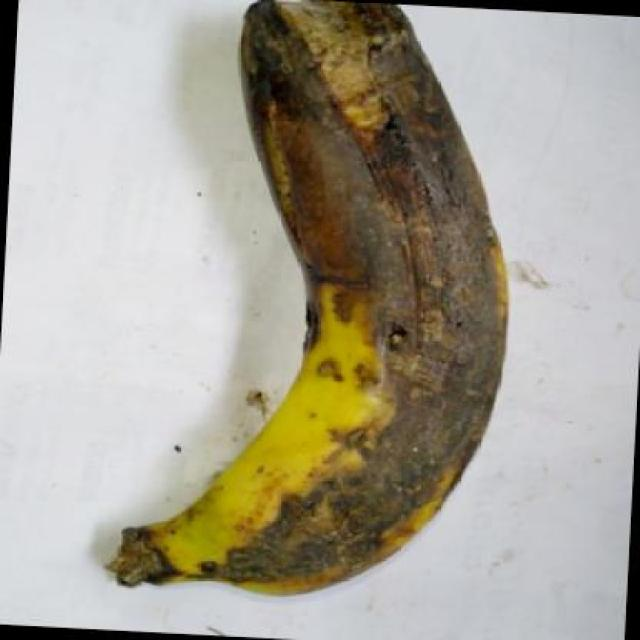Rotten: (56, 0, 537, 622)
